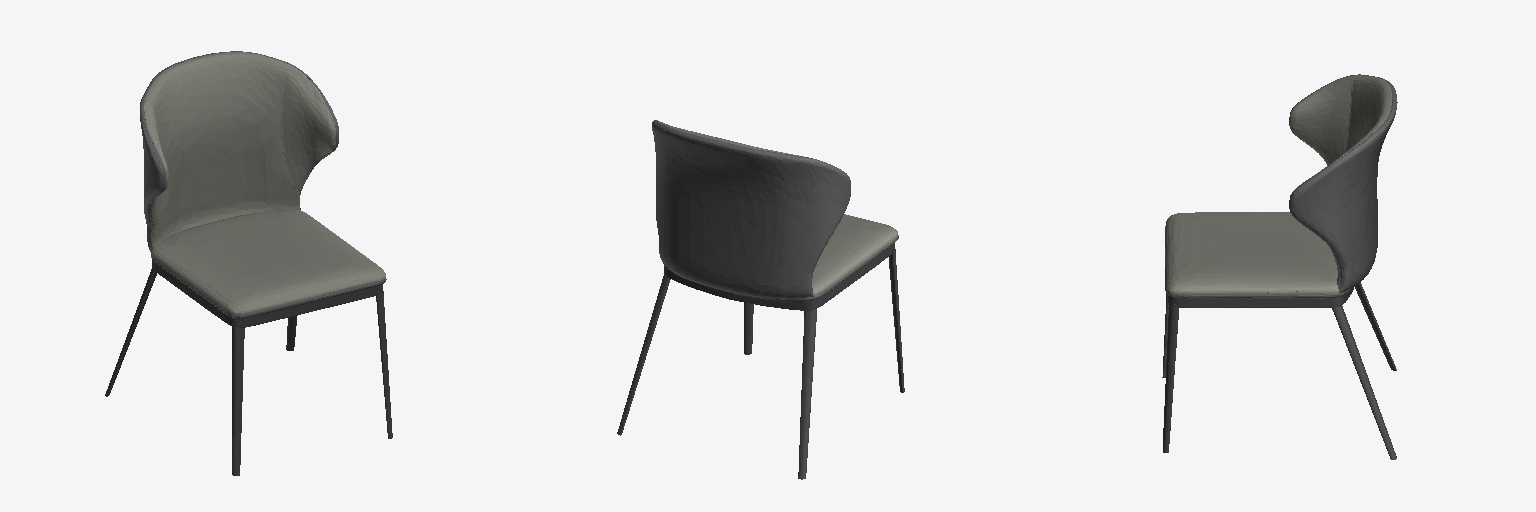
The picture shows the model from 3 angles: view 1: azimuth 30°, elevation 25°; view 2: azimuth 150°, elevation 25°; view 3: azimuth 270°, elevation 25°; orthographic projection.
Parts seen in each view (by area): view 1: solid_001, solid_003, solid_002; view 2: solid_002, solid_003, solid_001; view 3: solid_001, solid_002, solid_003.
Boxes of the visible parts, box(x1,y1,x2,y2) form: solid_001: box(144, 52, 385, 315); solid_003: box(105, 260, 392, 475); solid_002: box(140, 51, 386, 318); solid_002: box(652, 120, 898, 301); solid_003: box(617, 243, 904, 479); solid_001: box(656, 120, 897, 297); solid_001: box(1166, 75, 1391, 294); solid_002: box(1165, 74, 1397, 298); solid_003: box(1162, 282, 1396, 459).
Bounding box in the file's own units: 0.529 × 0.8518 × 0.5726.
1 materials, 1 textured.